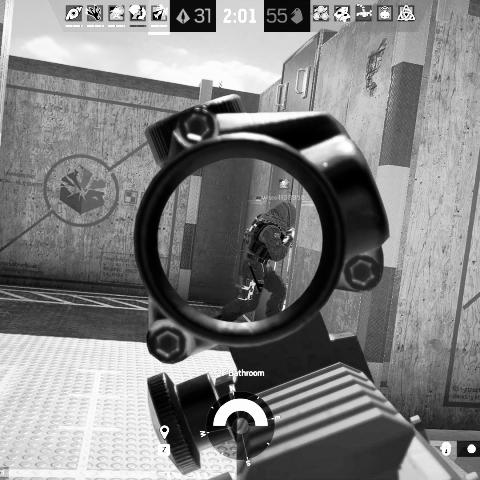Character: (214, 200, 302, 323)
Friend_label: (261, 177, 307, 201)
Head: (272, 202, 296, 230)
